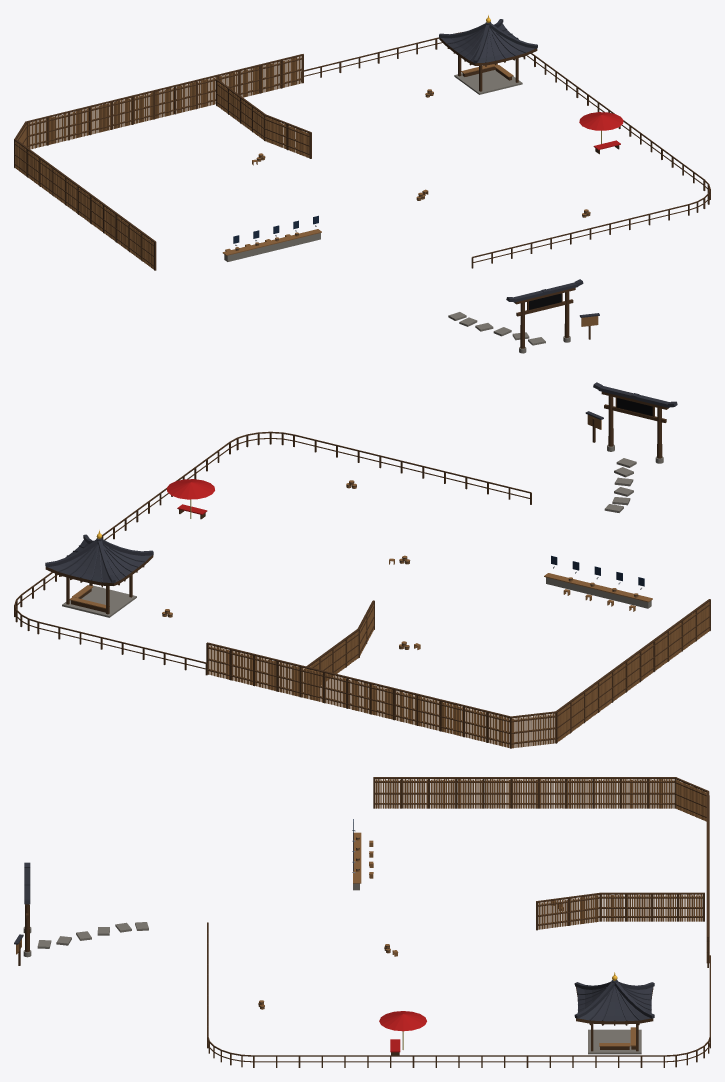
Rendered from SM_Onsen_Garden.fbx.
3 renders of one model, top to bottom at view 1: azimuth 30°, elevation 25°; view 2: azimuth 150°, elevation 25°; view 3: azimuth 270°, elevation 25°, orthographic. The views are drawn at different scales.
Visible parts, largest first — view 1: SM_Onsen_Garden; view 2: SM_Onsen_Garden; view 3: SM_Onsen_Garden.
Boxes of the visible parts, x1,y1,x2,y2 form: SM_Onsen_Garden: (14,15,710,353); SM_Onsen_Garden: (14,382,710,748); SM_Onsen_Garden: (14,777,710,1067).
Size of the model in its own units: 43.49 by 6.82 by 49.25.
